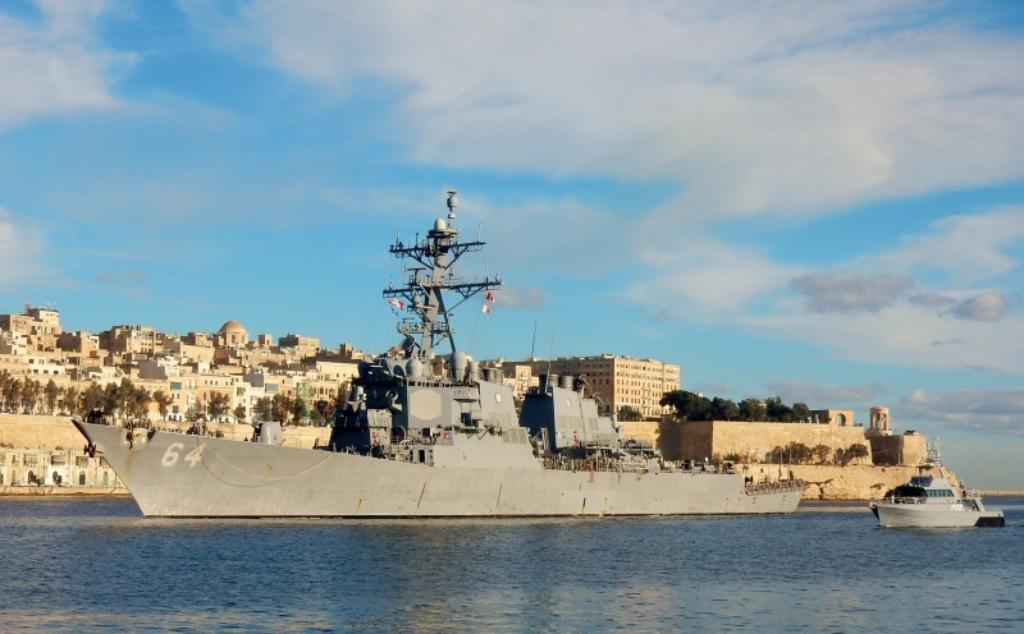PassengerShip: (866, 456, 1008, 532)
